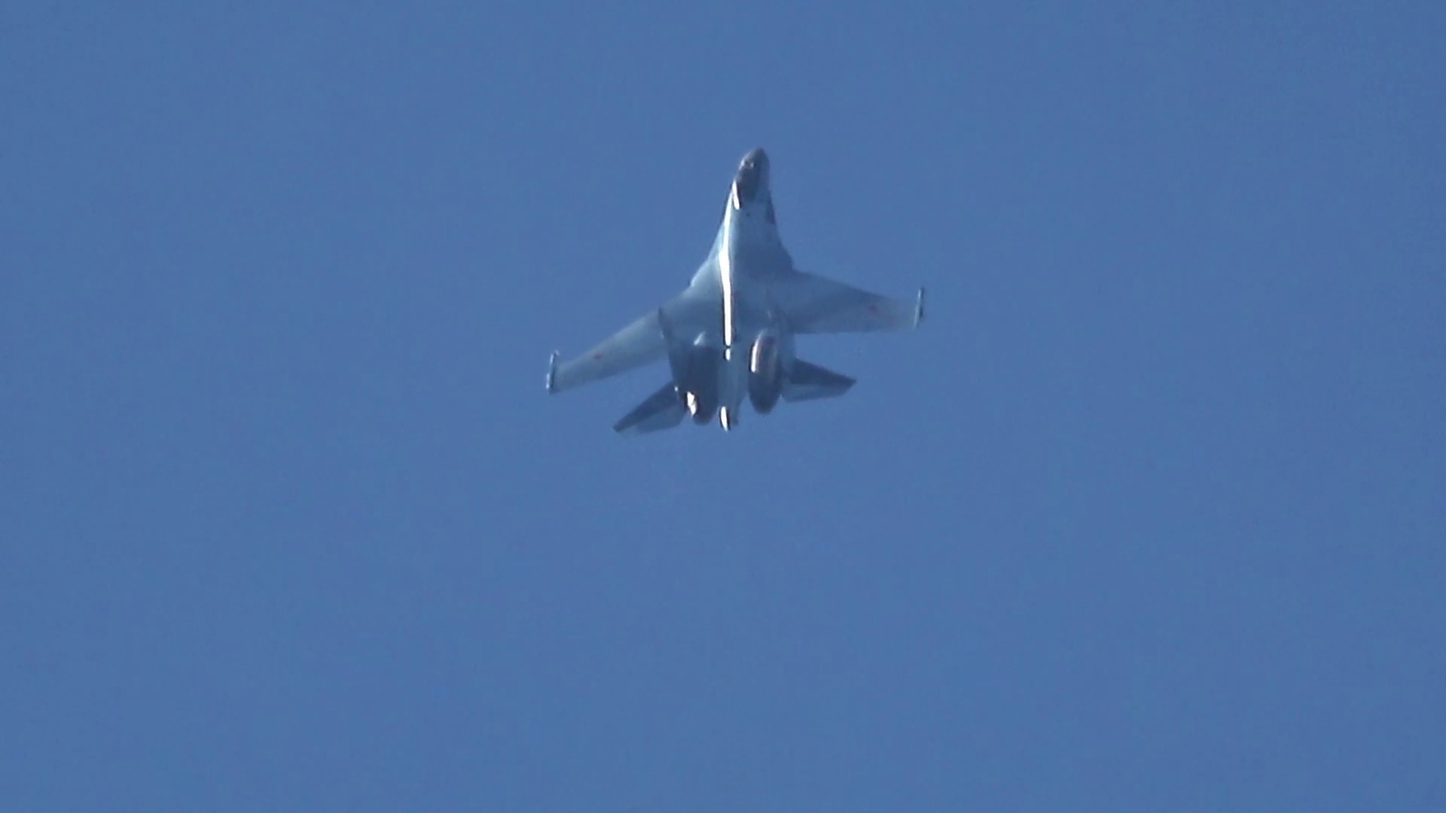Su35: (543, 145, 924, 435)
